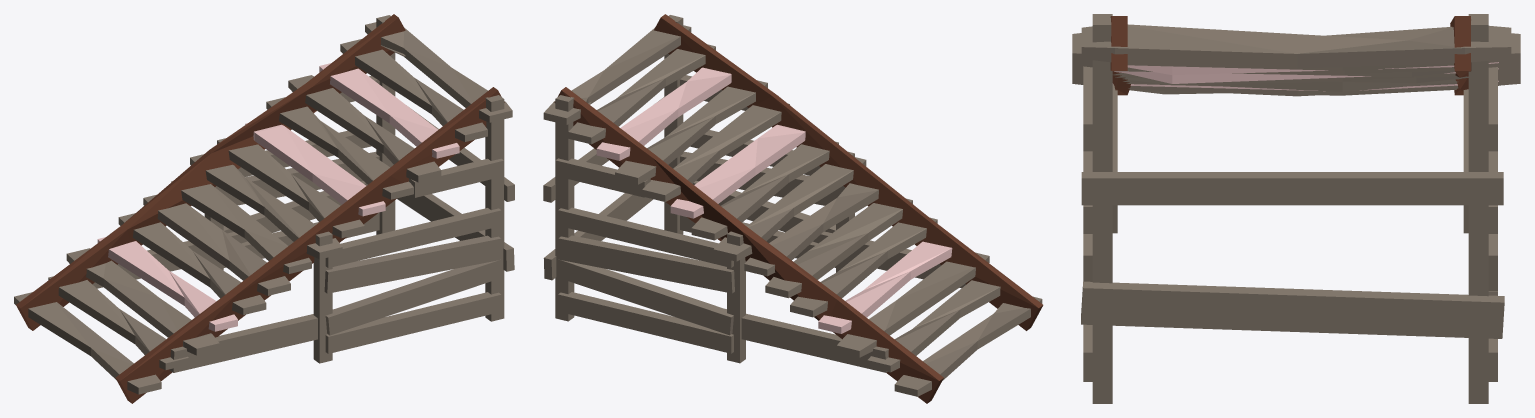
File: SM_Bld_Shanty_Stairs_01.glb
3 views of the same model, side by side, from view 1: azimuth 30°, elevation 25°; view 2: azimuth 150°, elevation 25°; view 3: azimuth 270°, elevation 25° (orthographic). The views are drawn at different scales.
Visible parts, largest first — view 1: SM_Bld_Shanty_Stairs_01_00; view 2: SM_Bld_Shanty_Stairs_01_00; view 3: SM_Bld_Shanty_Stairs_01_00.
Boxes of the visible parts, bbox=[...] form: SM_Bld_Shanty_Stairs_01_00: bbox=[14, 14, 514, 403]; SM_Bld_Shanty_Stairs_01_00: bbox=[543, 14, 1043, 403]; SM_Bld_Shanty_Stairs_01_00: bbox=[1072, 14, 1520, 403].
Bounding box in the file's own units: 4.88 × 2.68 × 2.81.
1 material, 1 textured.
